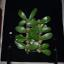leaf: (28, 8, 38, 21), (18, 10, 28, 22), (15, 40, 27, 49), (38, 16, 51, 24), (15, 34, 27, 42), (27, 42, 39, 50), (40, 33, 53, 40), (31, 32, 40, 41), (15, 27, 28, 33), (40, 49, 51, 56), (26, 21, 38, 27), (40, 27, 52, 32), (39, 44, 49, 50), (18, 21, 28, 26), (28, 28, 40, 32), (28, 30, 36, 36)
